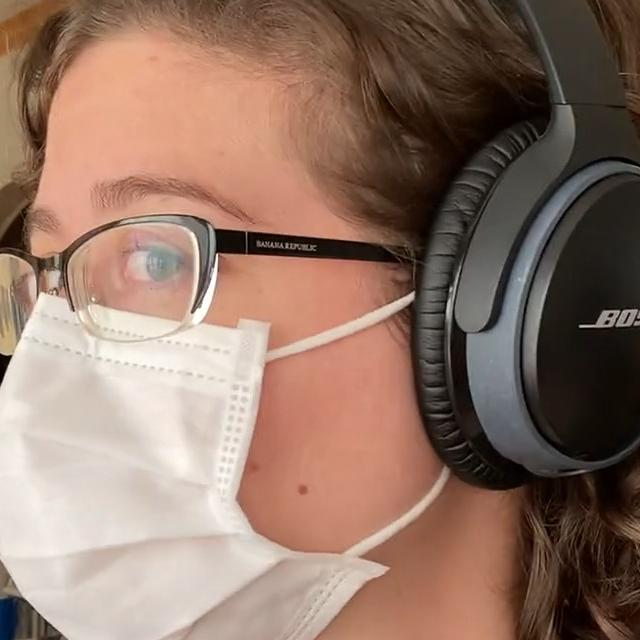Mask: (0, 292, 449, 640)
NO-Hardhat: (53, 0, 640, 200)
Person: (0, 0, 640, 640)
